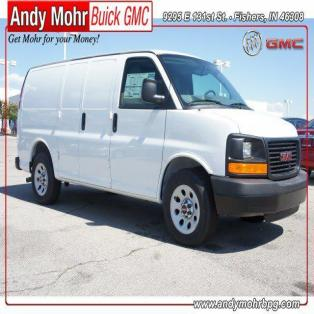Auto: (13, 51, 308, 245)
